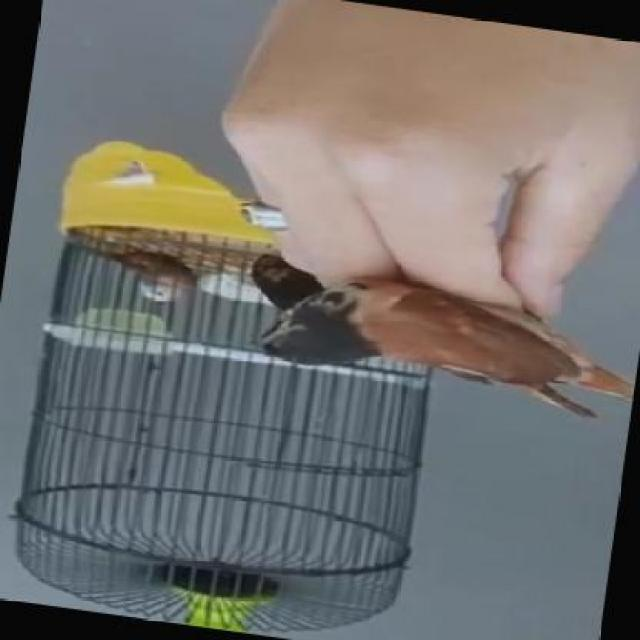Bird: (262, 261, 620, 402), (95, 246, 196, 304)
